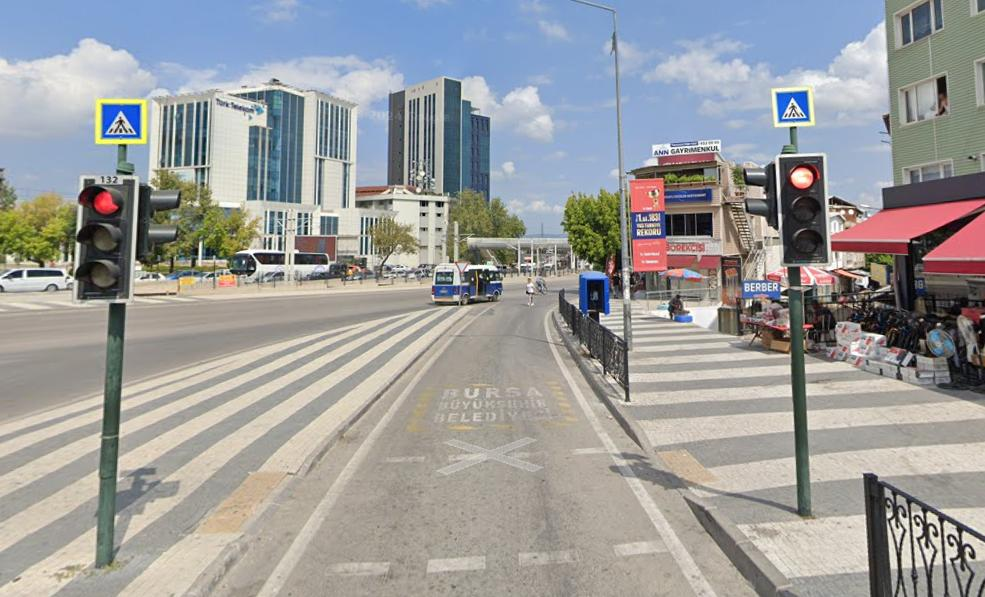redlight: (74, 175, 133, 306), (773, 152, 835, 266)
